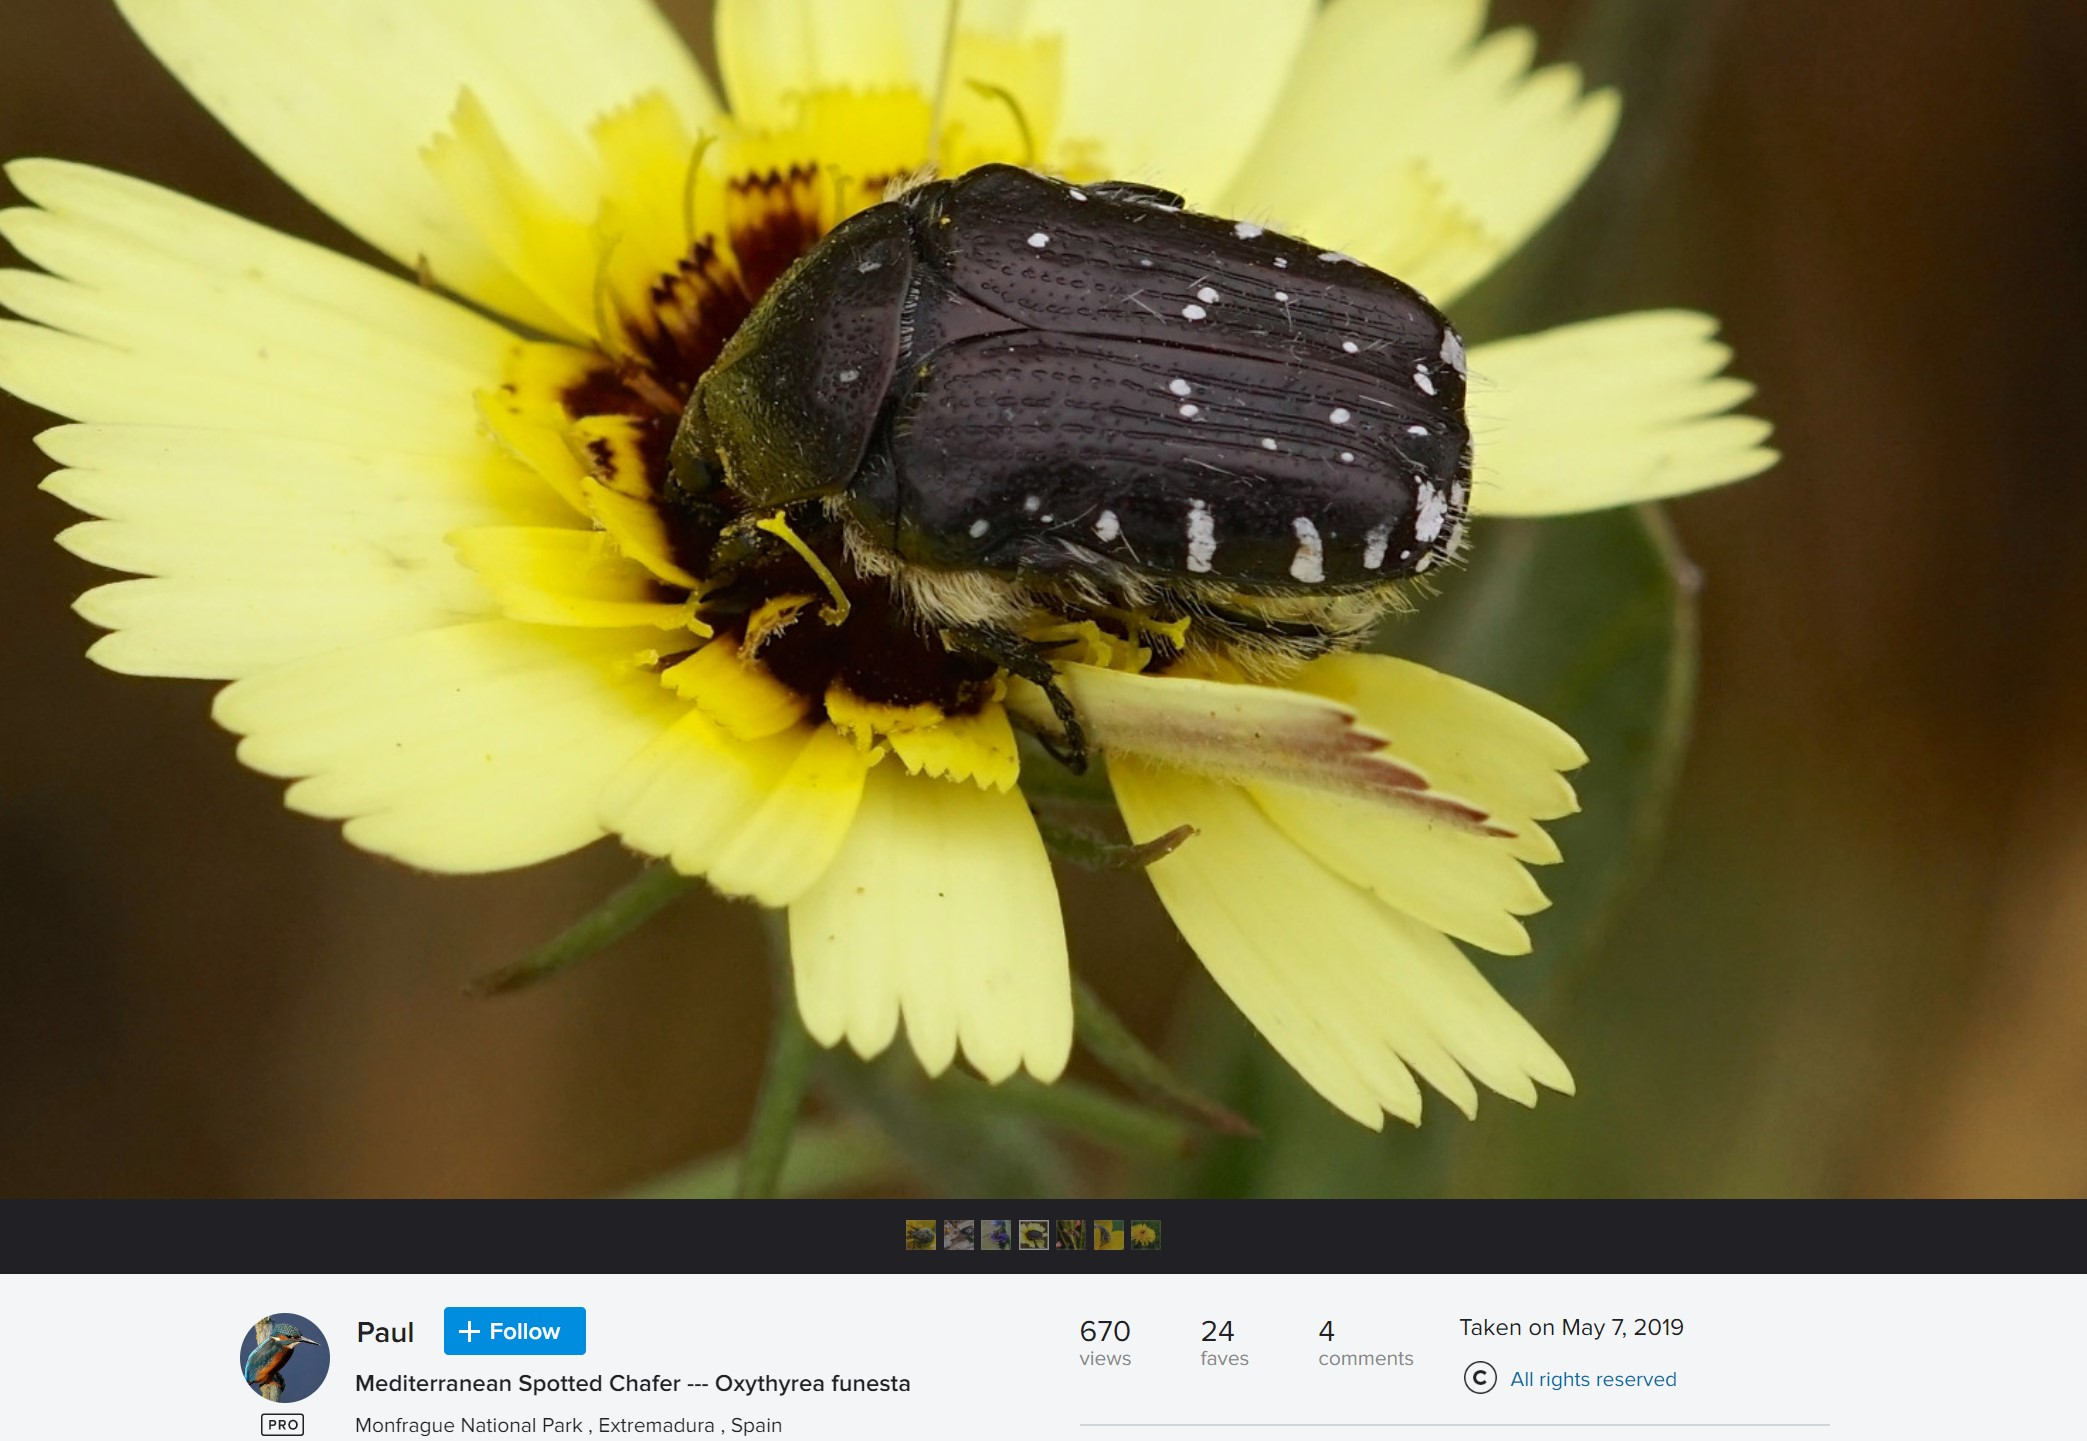Oxythyrea_funesta: (680, 154, 1529, 717)
